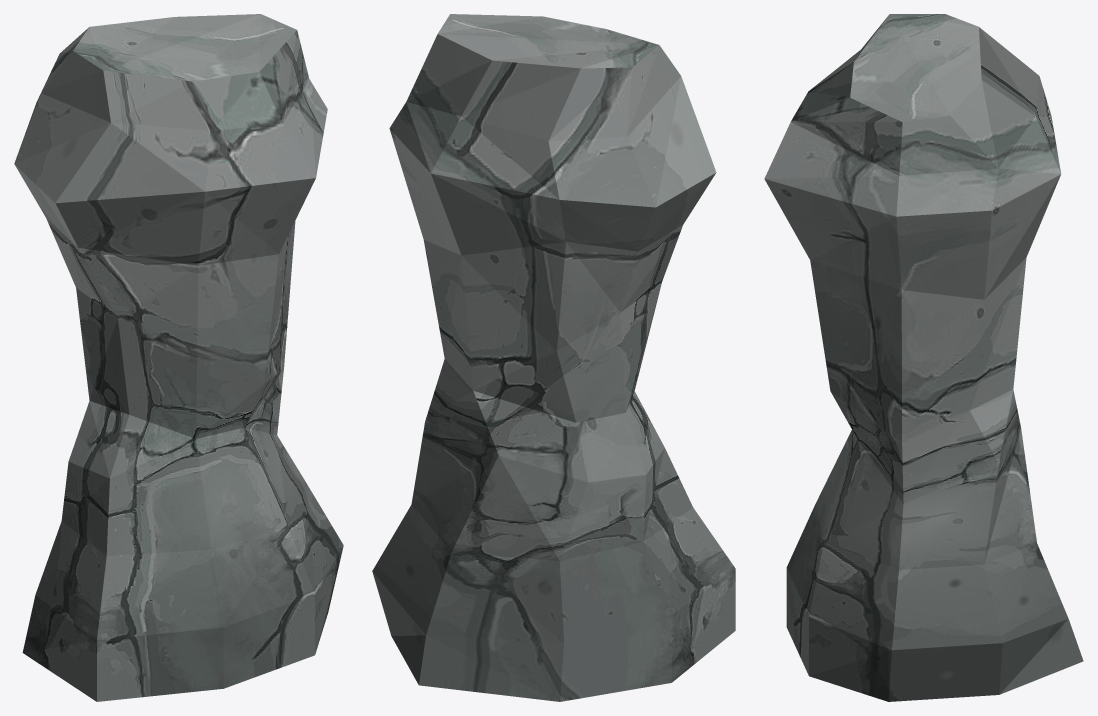
Rendered from desert_stone01.FBX.
3 views of the same model, side by side, from view 1: azimuth 30°, elevation 25°; view 2: azimuth 150°, elevation 25°; view 3: azimuth 270°, elevation 25° (orthographic). The views are drawn at different scales.
Parts seen in each view (by area): view 1: Line005; view 2: Line005; view 3: Line005.
Boxes of the visible parts, box(x1,y1,x2,y2) form: Line005: box(14, 14, 343, 701); Line005: box(372, 14, 735, 701); Line005: box(764, 14, 1083, 701).
Size of the model in its own units: 30.44 by 59.23 by 29.37.
